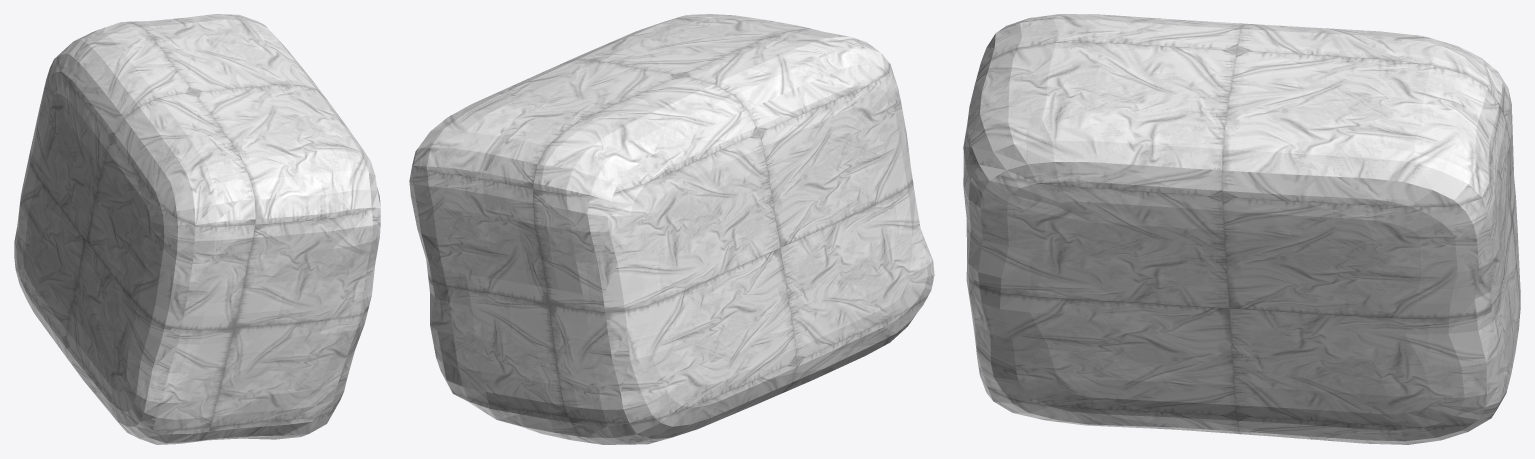
Rendered from ISS_INT_props_Bag_white_medium.FBX.
The picture shows the model from 3 angles, left to right: view 1: azimuth 30°, elevation 25°; view 2: azimuth 150°, elevation 25°; view 3: azimuth 270°, elevation 25°; orthographic projection. The views are drawn at different scales.
Parts seen in each view (by area): view 1: Columbus_int; view 2: Columbus_int; view 3: Columbus_int.
Boxes of the visible parts, x1=… form: Columbus_int: x1=14, y1=14, x2=380, y2=444; Columbus_int: x1=409, y1=14, x2=934, y2=444; Columbus_int: x1=963, y1=14, x2=1520, y2=444.
Size of the model in its own units: 0.035 by 0.0324 by 0.0454.
